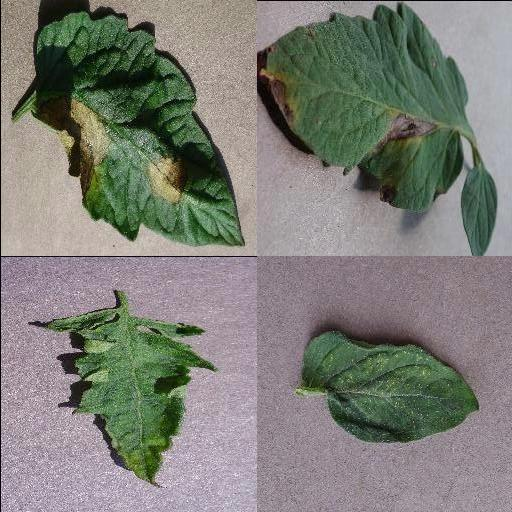Early Blight: (258, 0, 467, 213)
Healthy: (459, 166, 498, 256)
Late Blight: (31, 9, 245, 247)
Mosaic Virus: (45, 305, 215, 489)
Spider Mites: (299, 329, 481, 445)
